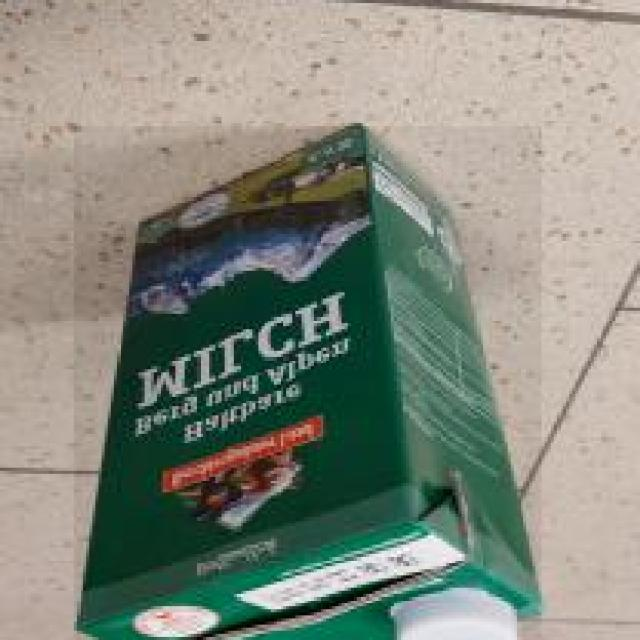milk: (73, 123, 544, 640)
